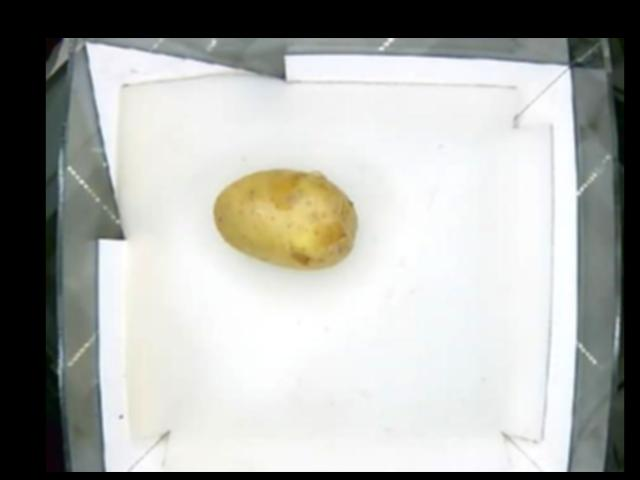Potato: (212, 166, 360, 273)
